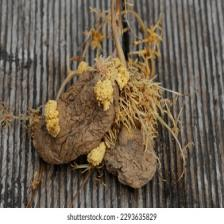Sprouted potato: (23, 52, 170, 191)
